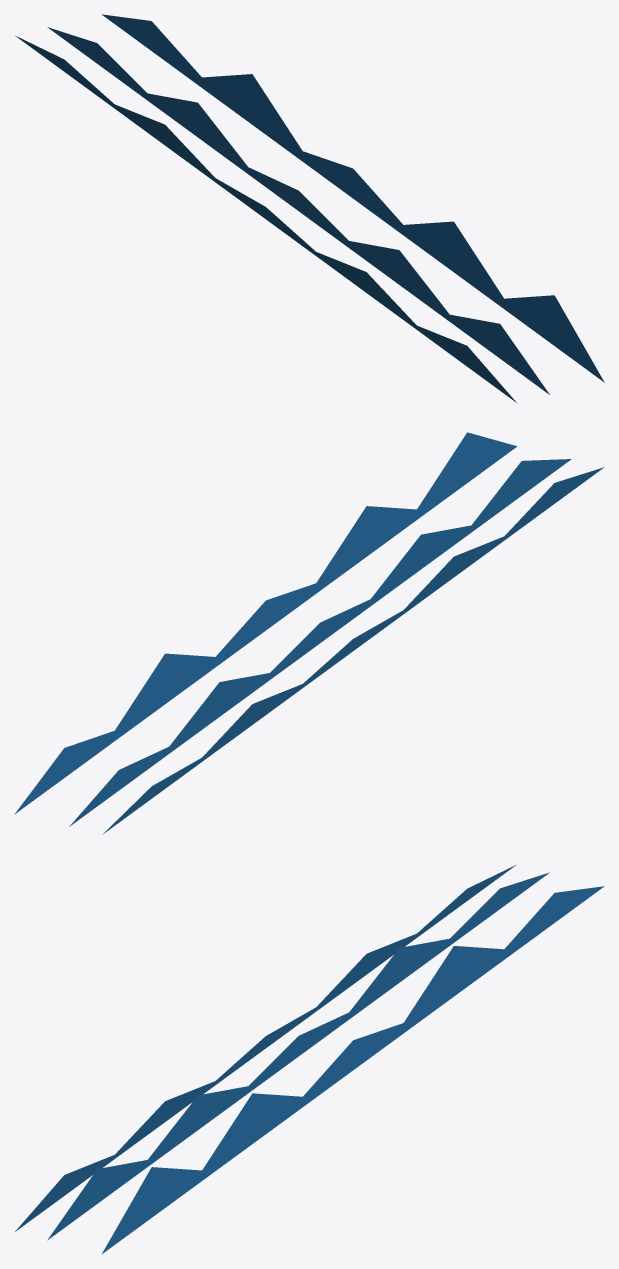
Rendered from OceanWaveA.fbx.
3 renders of one model, top to bottom at view 1: azimuth 30°, elevation 25°; view 2: azimuth 150°, elevation 25°; view 3: azimuth 330°, elevation 25°, orthographic.
Visible parts, largest first — view 1: OceanWaveA2, OceanWaveA1, OceanWaveA; view 2: OceanWaveA2, OceanWaveA1, OceanWaveA; view 3: OceanWaveA2, OceanWaveA1, OceanWaveA.
Boxes of the visible parts, left/top/right/bottom form: OceanWaveA2: left=102, top=14, right=604, bottom=382; OceanWaveA1: left=47, top=27, right=549, bottom=394; OceanWaveA: left=15, top=35, right=517, bottom=403; OceanWaveA2: left=14, top=432, right=516, bottom=814; OceanWaveA1: left=69, top=459, right=571, bottom=826; OceanWaveA: left=103, top=467, right=604, bottom=833; OceanWaveA2: left=102, top=886, right=604, bottom=1253; OceanWaveA1: left=47, top=872, right=549, bottom=1240; OceanWaveA: left=15, top=865, right=515, bottom=1231.
Size of the model in its own units: 3761 by 2094 by 37572.
Materials: 1 (1 with a texture image).
